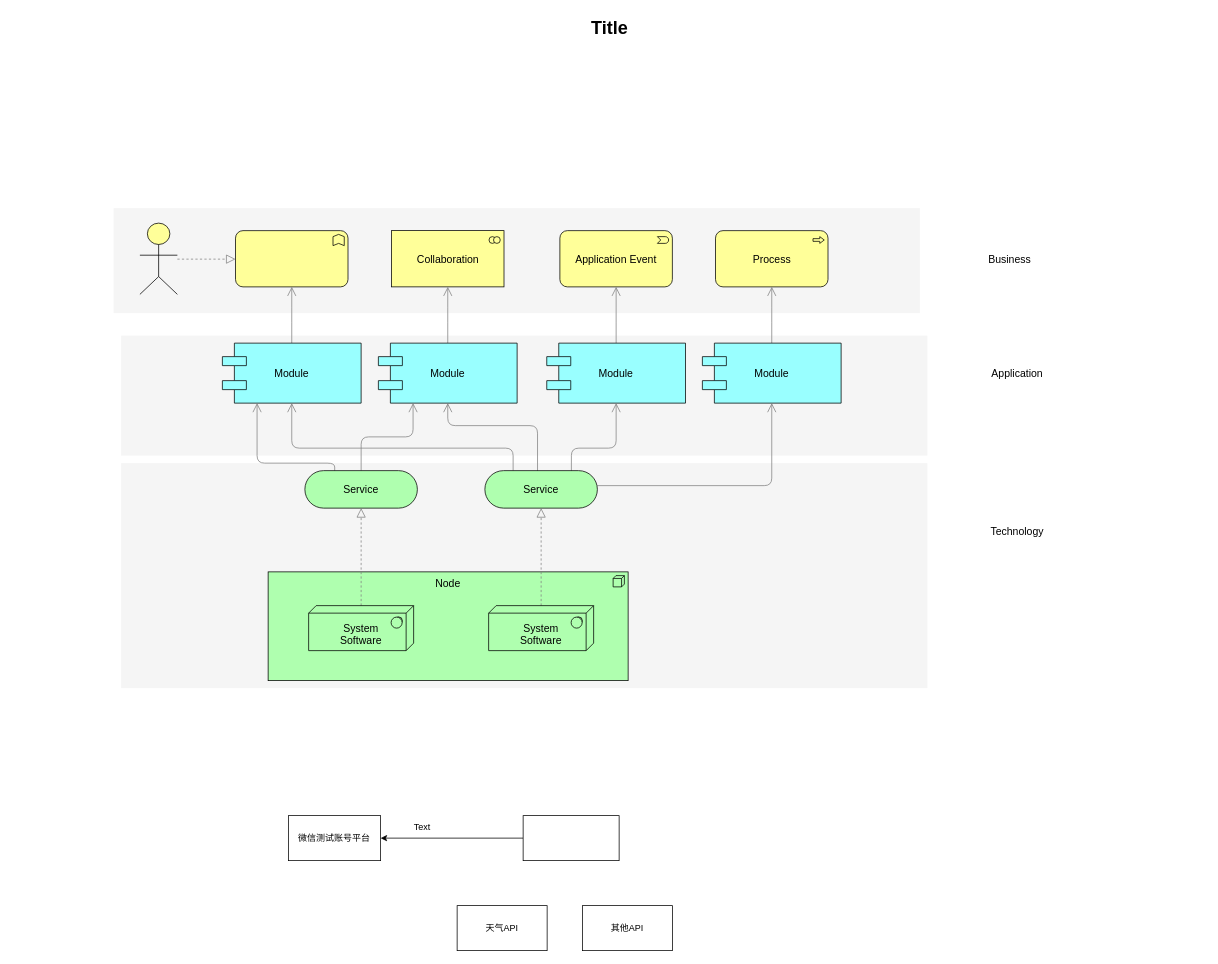
This 1218x964 diagram has some shape labels left out. Here are the shapes that lost their labels. From the top down, the centre of each, then its label:
the point at 291,258: Function
the point at 570,838: 脚本 （运行在PC或服务器）
